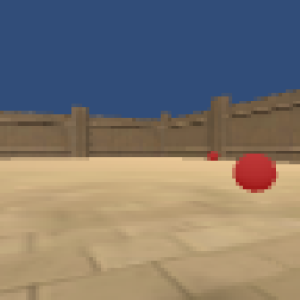badGoal: (230, 151, 280, 196), (206, 147, 222, 162)
